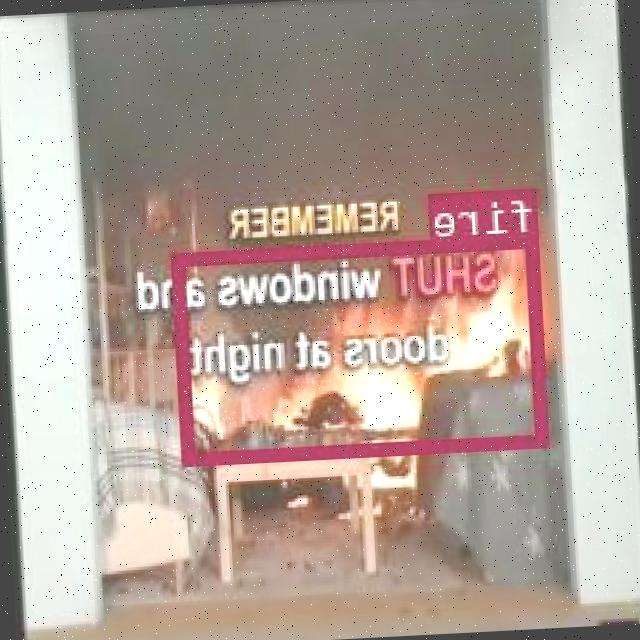fire: (173, 232, 550, 464)
